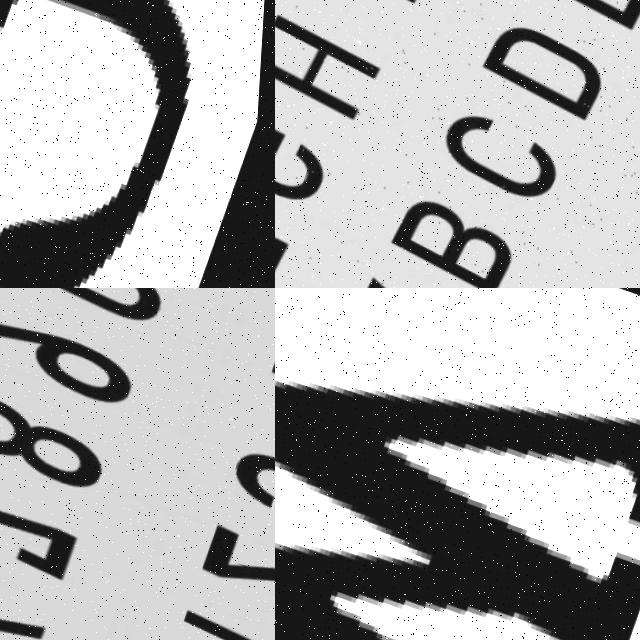0: (0, 288, 197, 343)
1: (161, 589, 275, 640)
2: (176, 502, 275, 640)
3: (210, 423, 275, 567)
6: (0, 531, 115, 640)
7: (0, 453, 123, 593)
8: (0, 367, 145, 510)
9: (0, 288, 172, 424)
A: (0, 0, 275, 288)
W: (275, 288, 640, 640)
